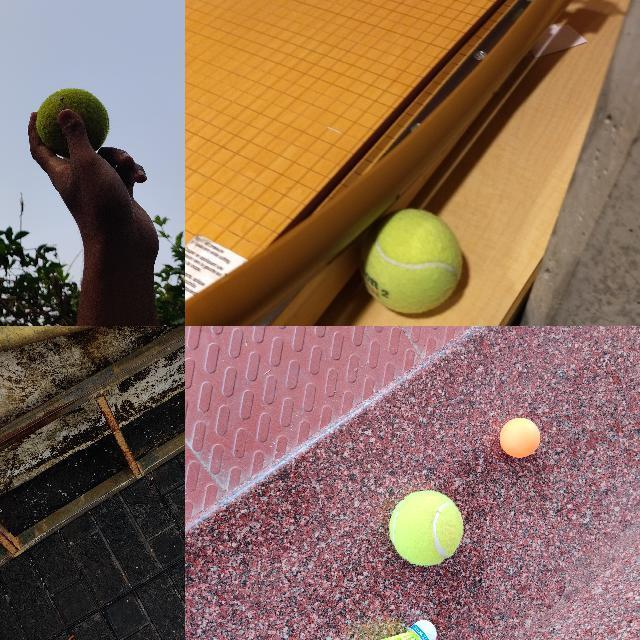tennis-ball: (359, 207, 464, 316), (389, 490, 463, 566), (35, 87, 110, 159)
